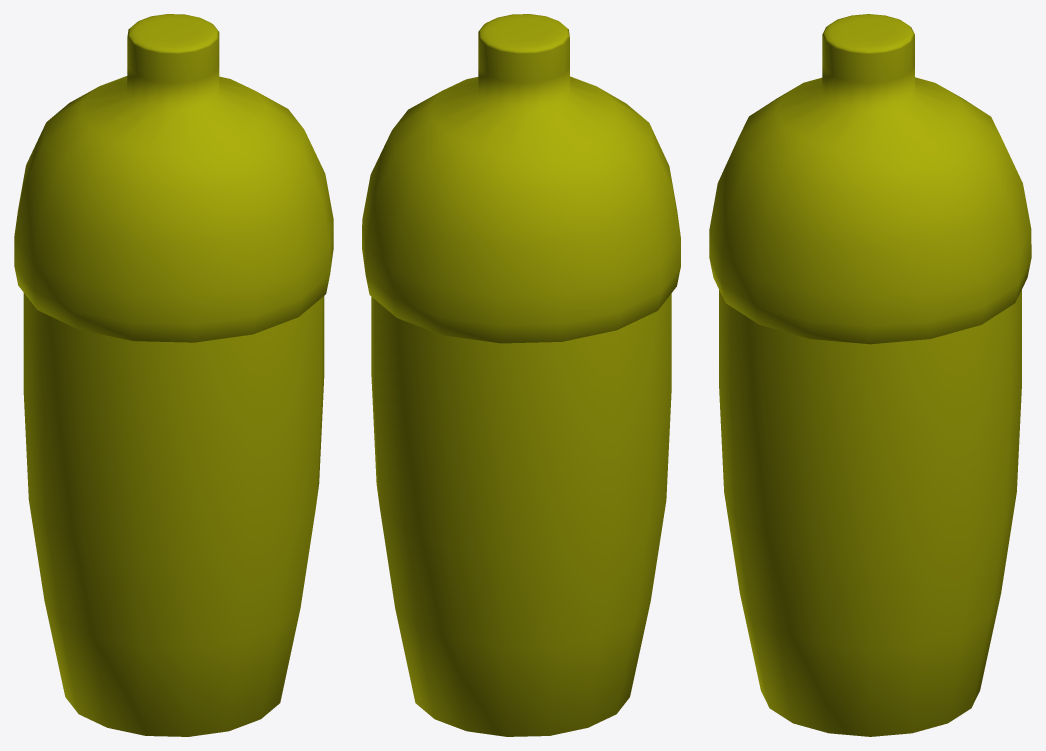
File: MOD_BAR Shaker.fbx
3 views of the same model, side by side, from view 1: azimuth 30°, elevation 25°; view 2: azimuth 150°, elevation 25°; view 3: azimuth 270°, elevation 25° (orthographic).
Visible parts, largest first — view 1: shaker_body, shaker_cap; view 2: shaker_body, shaker_cap; view 3: shaker_body, shaker_cap.
Part boxes in pixels (box(x1,y1,x2,y2)): shaker_body: box(23, 293, 324, 736); shaker_cap: box(14, 14, 333, 342); shaker_body: box(371, 293, 671, 736); shaker_cap: box(362, 14, 680, 343); shaker_body: box(719, 290, 1021, 736); shaker_cap: box(709, 14, 1031, 344).
Bounding box in the file's own units: 10.5 × 23.72 × 10.5.
